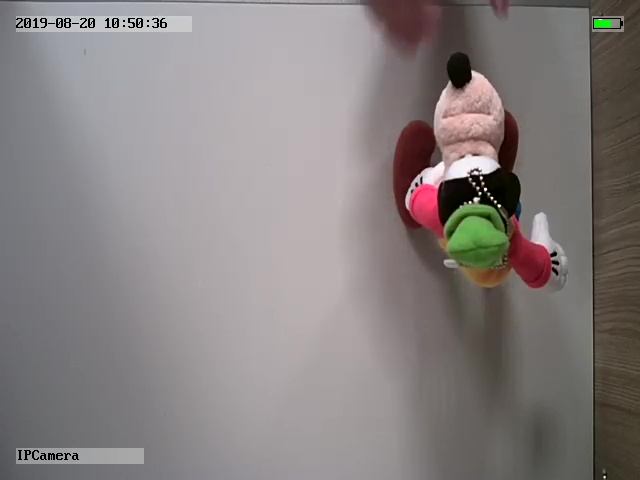goofy: (392, 52, 569, 292)
